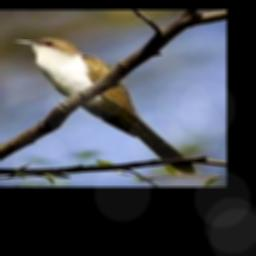Cuckoo: (13, 38, 196, 173)
